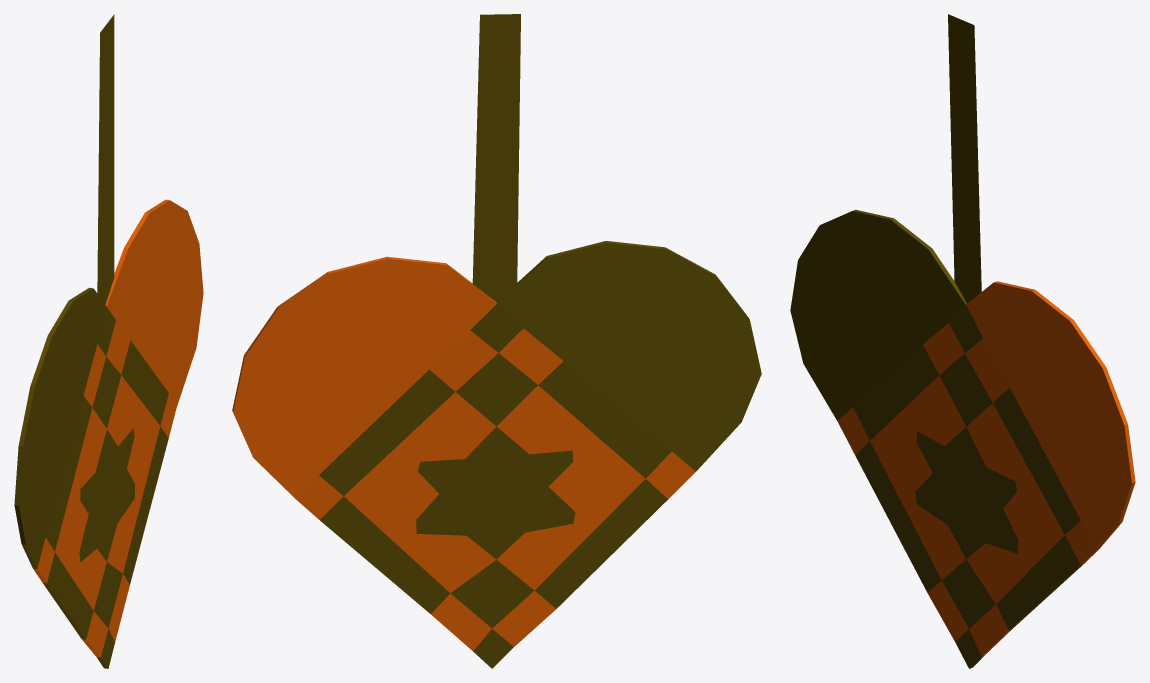
File: heart16.glb
The picture shows the model from 3 angles, left to right: view 1: azimuth 30°, elevation 25°; view 2: azimuth 150°, elevation 25°; view 3: azimuth 270°, elevation 25°; orthographic projection.
Parts seen in each view (by area): view 1: heart16; view 2: heart16; view 3: heart16.
Part boxes in pixels (x1=…): heart16: x1=14, y1=14, x2=203, y2=668; heart16: x1=232, y1=14, x2=761, y2=668; heart16: x1=790, y1=14, x2=1135, y2=668.
Size of the model in its own units: 0.1056 by 0.183 by 0.0884.
